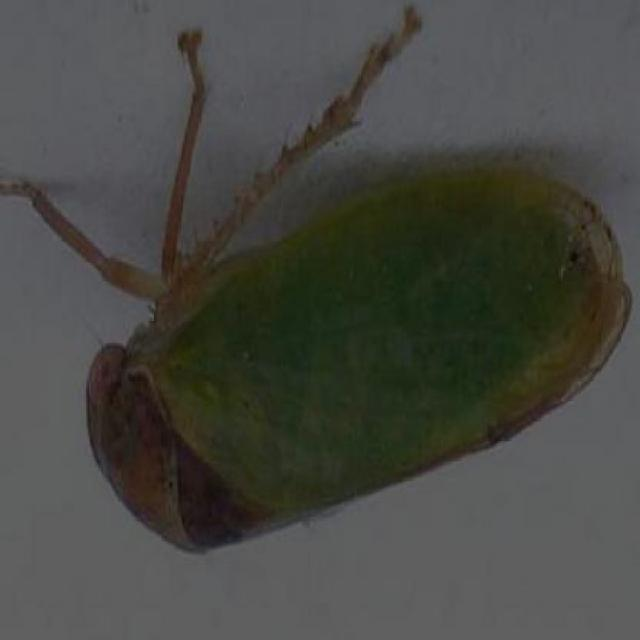green-leafhopper: (80, 171, 623, 554)
